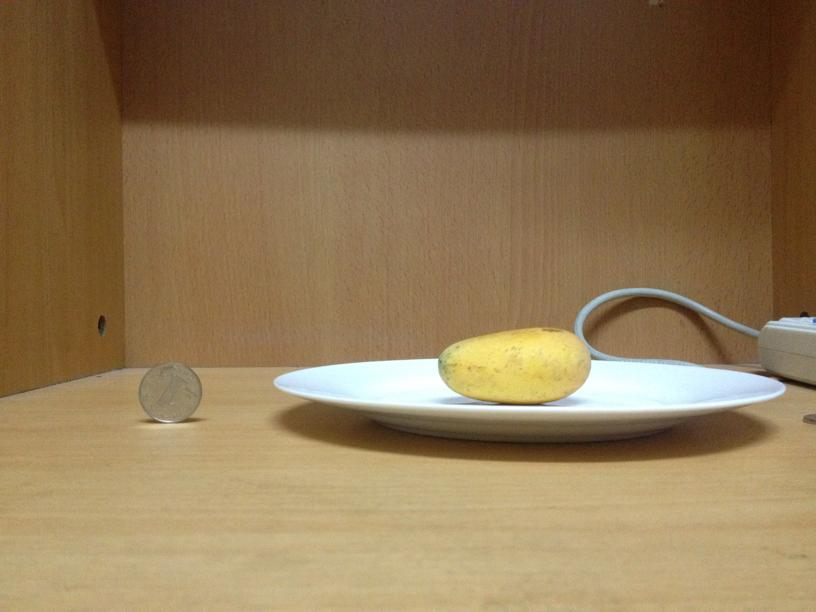coin: (138, 363, 204, 424)
mango: (435, 328, 591, 402)
